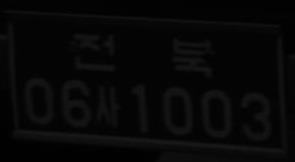0: (202, 89, 232, 142), (162, 86, 192, 137), (24, 77, 54, 124)
1: (128, 84, 155, 135)
3: (241, 93, 272, 142)
6: (60, 80, 91, 128)
사: (92, 81, 119, 129)
전북_D: (73, 30, 212, 79)
